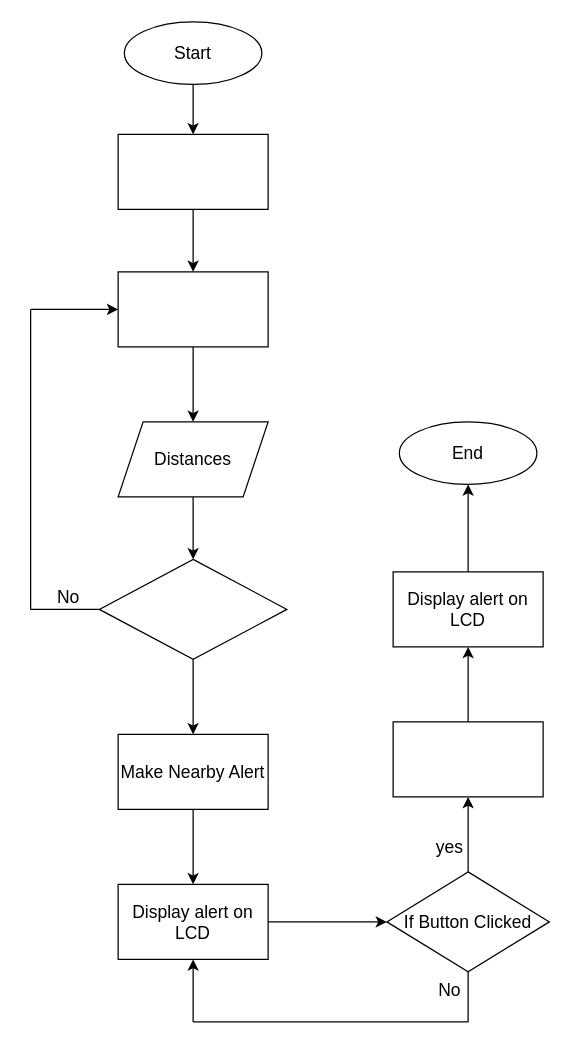
This 571x1054 diagram has some shape labels left out. The box of each missing label's shape, as (x1, y1, x2, y2) in pixels:
If Distance<200: (98, 558, 287, 659)
Make Distant Alert: (392, 721, 543, 797)
Measure Distances: (117, 271, 268, 347)
Turn On Sensor: (117, 133, 268, 209)
